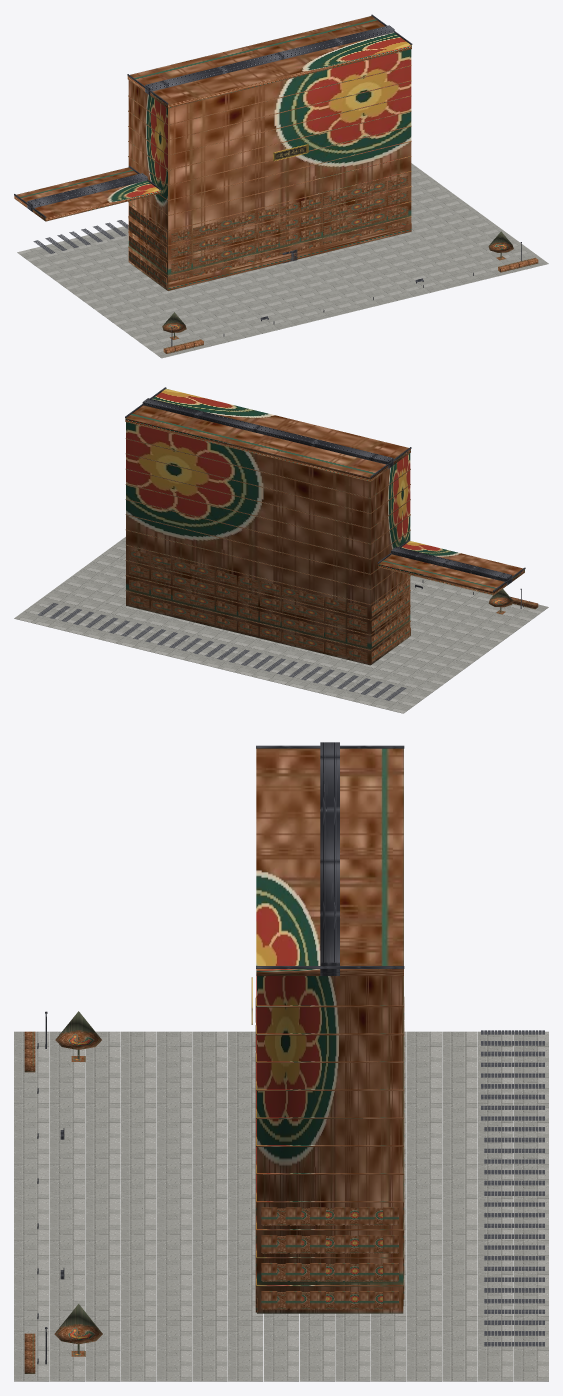
3 views of the same model, one above another, from view 1: azimuth 30°, elevation 25°; view 2: azimuth 150°, elevation 25°; view 3: azimuth 270°, elevation 25° (orthographic). The views are drawn at different scales.
Visible parts, largest first — view 1: 11680_01_06261_035_02__mass_body_facade, 11680_01_06261_035_01__plinth_ground_base, 11680_01_06261_035_03__roof_metal_ornament, 11680_01_06261_035_05__window_sash_glass, 11680_01_06261_035_06__landscape_greenery, 11680_01_06261_035_03__roof_deck_structure; view 2: 11680_01_06261_035_02__mass_body_facade, 11680_01_06261_035_01__plinth_ground_base, 11680_01_06261_035_03__roof_metal_ornament, 11680_01_06261_035_03__roof_deck_structure, 11680_01_06261_035_06__landscape_greenery; view 3: 11680_01_06261_035_01__plinth_ground_base, 11680_01_06261_035_02__mass_body_facade, 11680_01_06261_035_03__roof_deck_structure, 11680_01_06261_035_03__roof_metal_ornament, 11680_01_06261_035_06__landscape_greenery.
Boxes of the visible parts, <box> form: 11680_01_06261_035_02__mass_body_facade: <box>14,16,411,290</box>; 11680_01_06261_035_01__plinth_ground_base: <box>17,163,548,358</box>; 11680_01_06261_035_03__roof_metal_ornament: <box>14,14,412,217</box>; 11680_01_06261_035_05__window_sash_glass: <box>179,177,400,279</box>; 11680_01_06261_035_06__landscape_greenery: <box>162,231,538,353</box>; 11680_01_06261_035_03__roof_deck_structure: <box>33,220,128,253</box>; 11680_01_06261_035_02__mass_body_facade: <box>125,388,524,665</box>; 11680_01_06261_035_01__plinth_ground_base: <box>14,537,548,713</box>; 11680_01_06261_035_03__roof_metal_ornament: <box>125,387,525,591</box>; 11680_01_06261_035_03__roof_deck_structure: <box>37,603,406,700</box>; 11680_01_06261_035_06__landscape_greenery: <box>488,589,538,614</box>; 11680_01_06261_035_01__plinth_ground_base: <box>14,1031,548,1381</box>; 11680_01_06261_035_02__mass_body_facade: <box>255,748,404,1313</box>; 11680_01_06261_035_03__roof_deck_structure: <box>481,1030,544,1346</box>; 11680_01_06261_035_03__roof_metal_ornament: <box>256,742,404,975</box>; 11680_01_06261_035_06__landscape_greenery: <box>24,1011,102,1373</box>.
Bounding box in the file's own units: 114 × 48.2 × 65.95.
Materials: 7 (7 with a texture image).
